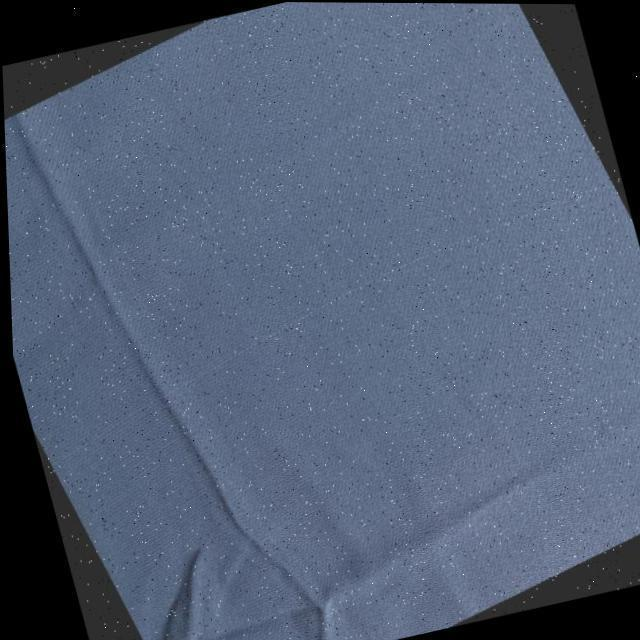pulled_or_thick_thread: (226, 187, 613, 360)
